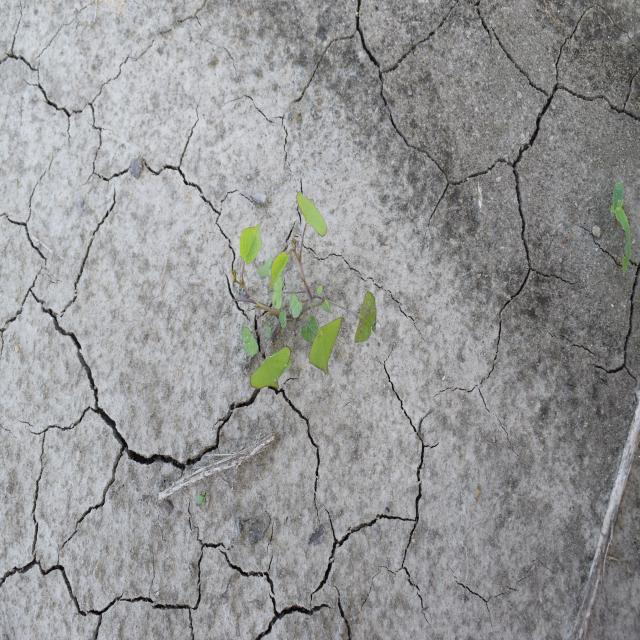MorningGlory: (232, 190, 378, 391)
